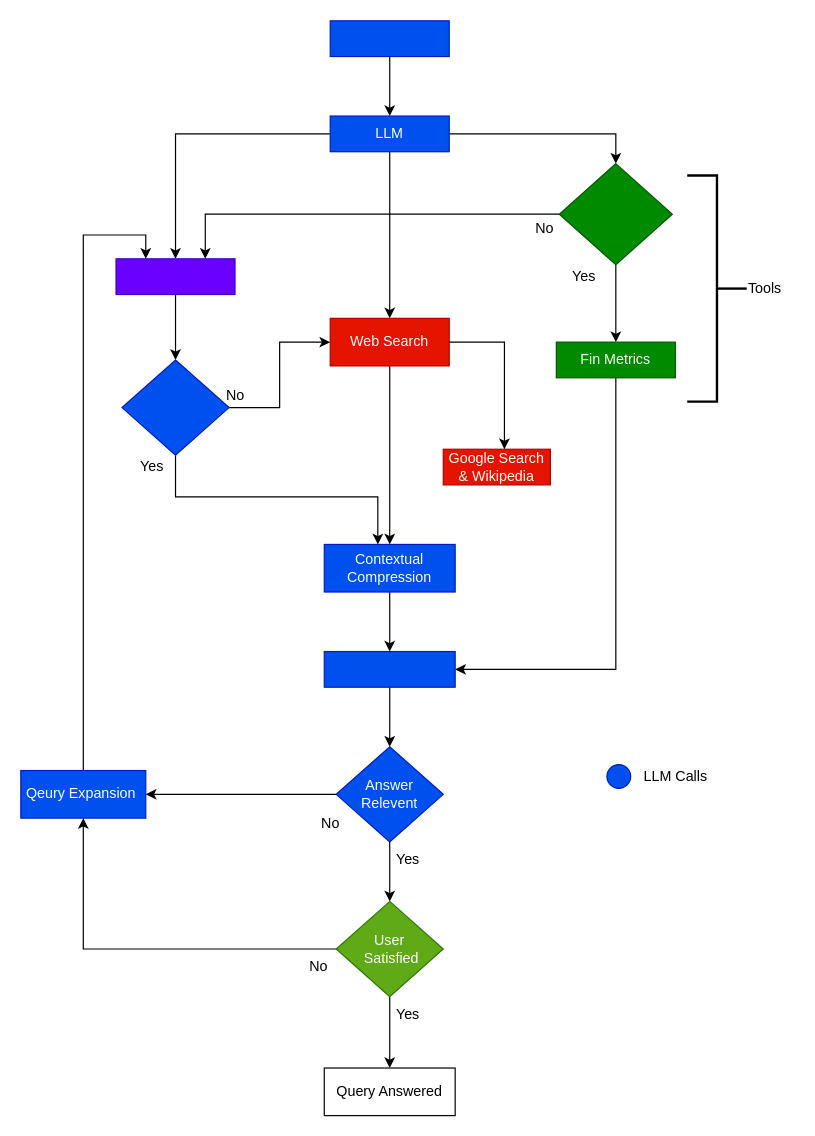
Image size: 815x1136. Some labels were removed from this diagram. Each missing label, with the centre of its shape:
"Document Relevent" goes at (175,407).
"Generate Answer" goes at (389,668).
"Hybrid Search" goes at (175,276).
"Input Data Given" goes at (615,213).
"Query" goes at (389,38).
